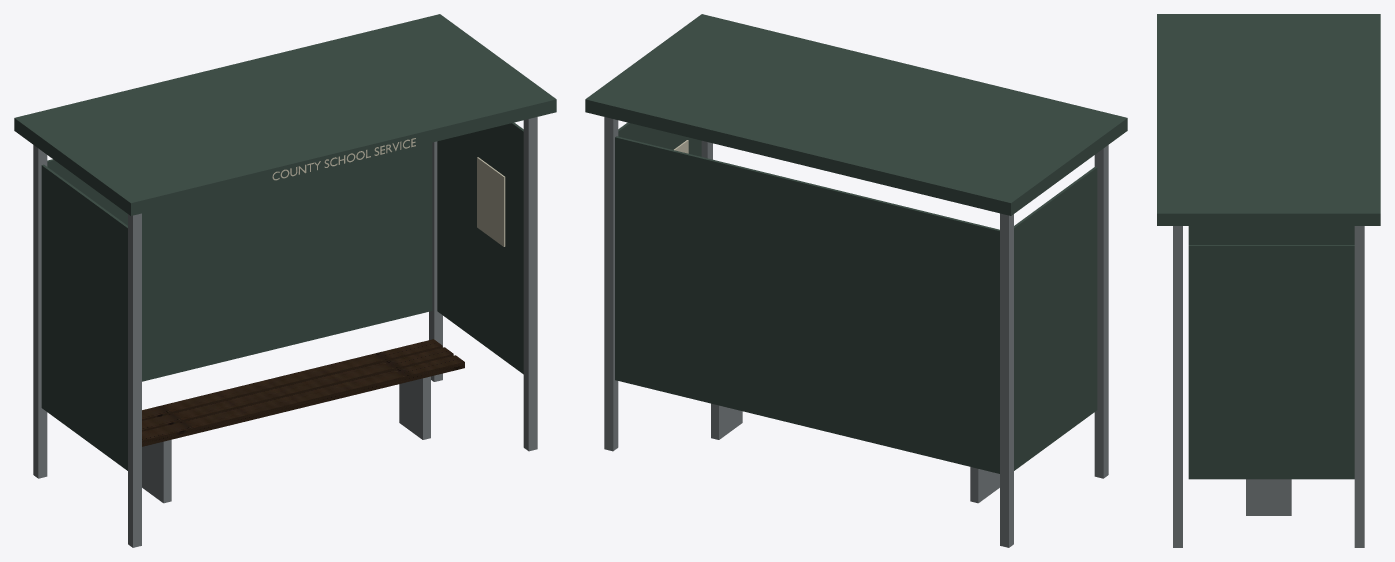
File: bus-shelter.glb
3 renders of one model, left to right at view 1: azimuth 30°, elevation 25°; view 2: azimuth 150°, elevation 25°; view 3: azimuth 270°, elevation 25°, orthographic. The views are drawn at different scales.
Parts seen in each view (by area): view 1: Shelter roof, Back panel, Side panel, Side panel.001, Bench slat, Steel frame.002, Steel frame, Bench slat.001, Steel frame.001, Bench slat.002, Timetable, Bench foot.001 (+2 smaller); view 2: Back panel, Shelter roof, Side panel, Steel frame.001, Steel frame, Steel frame.003, Side panel.001, Bench foot.001, Bench foot; view 3: Shelter roof, Side panel.001, Steel frame.003, Steel frame.002, Side panel, Bench foot.001.
Boxes of the visible parts, box(x1,y1,x2,y2) form: Shelter roof: box(14, 14, 556, 215); Back panel: box(47, 142, 432, 381); Side panel: box(41, 164, 127, 470); Side panel.001: box(437, 122, 523, 374); Bench slat: box(142, 355, 464, 446); Steel frame.002: box(523, 117, 537, 451); Steel frame: box(128, 213, 141, 547); Bench slat.001: box(142, 347, 453, 431); Steel frame.001: box(33, 145, 47, 478); Bench slat.002: box(142, 339, 442, 420); Timetable: box(477, 157, 505, 246); Bench foot.001: box(399, 376, 430, 439); Back panel: box(615, 136, 999, 473); Shelter roof: box(585, 14, 1127, 215); Side panel: box(1014, 167, 1097, 470); Steel frame.001: box(1000, 213, 1013, 547); Steel frame: box(1094, 145, 1108, 478); Steel frame.003: box(604, 117, 618, 451); Side panel.001: box(618, 122, 701, 156); Bench foot.001: box(711, 403, 742, 439); Bench foot: box(970, 467, 999, 503); Shelter roof: box(1157, 14, 1380, 225); Side panel.001: box(1188, 245, 1354, 479); Steel frame.003: box(1354, 226, 1364, 547); Steel frame.002: box(1173, 226, 1182, 547); Side panel: box(1188, 226, 1354, 244); Bench foot.001: box(1246, 479, 1291, 515).
Bounding box in the file's own units: 3.12 × 2.48 × 1.48.
4 materials, 1 textured.
